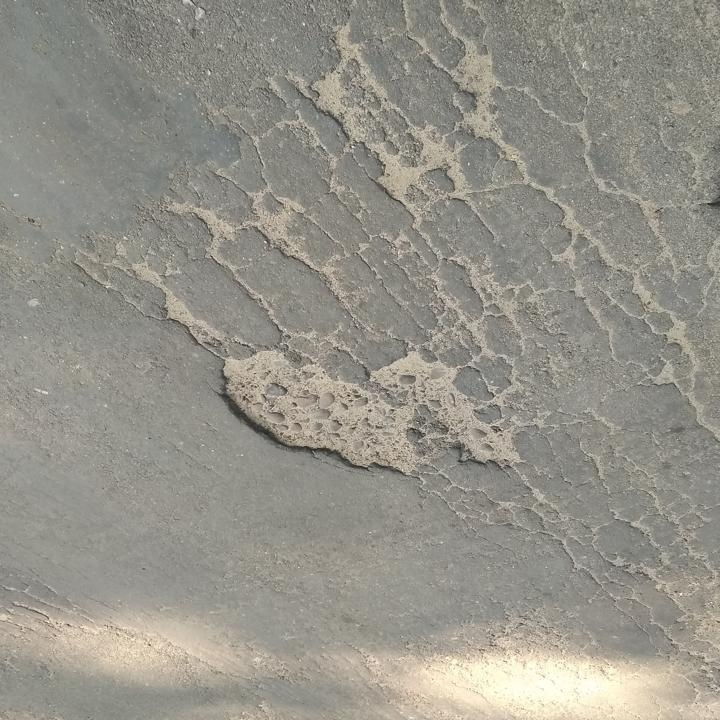pothole: (211, 341, 524, 480)
